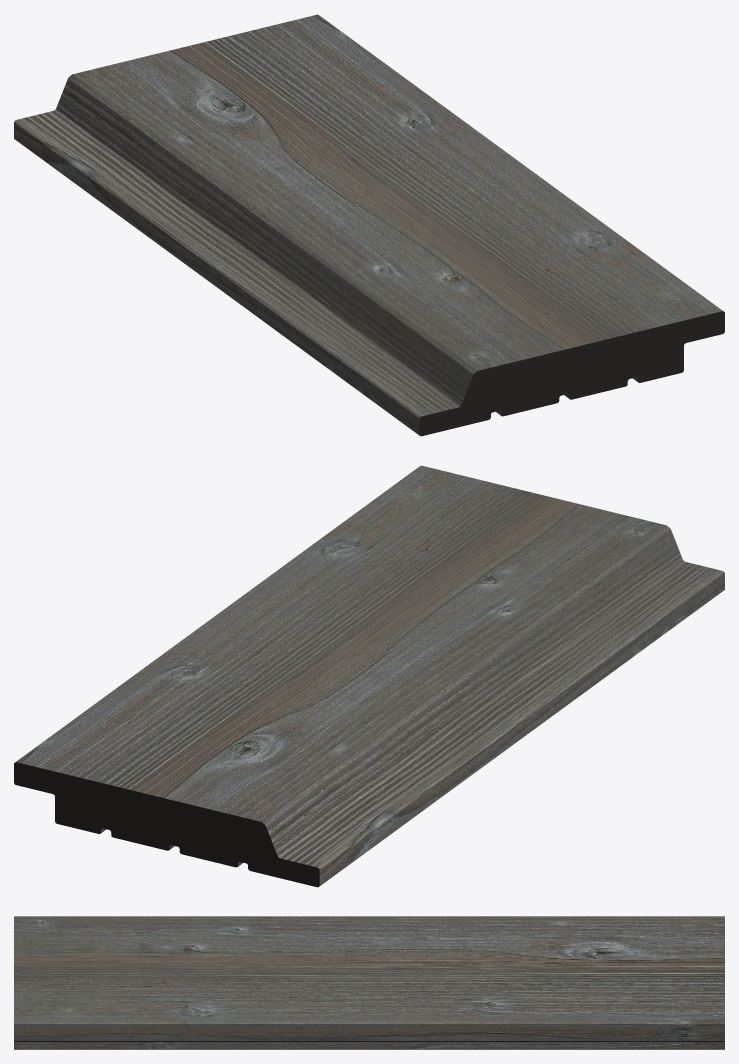
File: spruce-facade-half-tenon-silver.glb
3 views of the same model, one above another, from view 1: azimuth 30°, elevation 25°; view 2: azimuth 150°, elevation 25°; view 3: azimuth 270°, elevation 25° (orthographic). The views are drawn at different scales.
Visible parts, largest first — view 1: Pusė_Špunto; view 2: Pusė_Špunto; view 3: Pusė_Špunto.
Boxes of the visible parts, x1=… form: Pusė_Špunto: x1=14, y1=14, x2=724, y2=436; Pusė_Špunto: x1=14, y1=465, x2=724, y2=887; Pusė_Špunto: x1=14, y1=916, x2=724, y2=1049.
Bounding box in the file's own units: 0.0723 × 0.0117 × 0.166.
3 materials, 1 textured.
